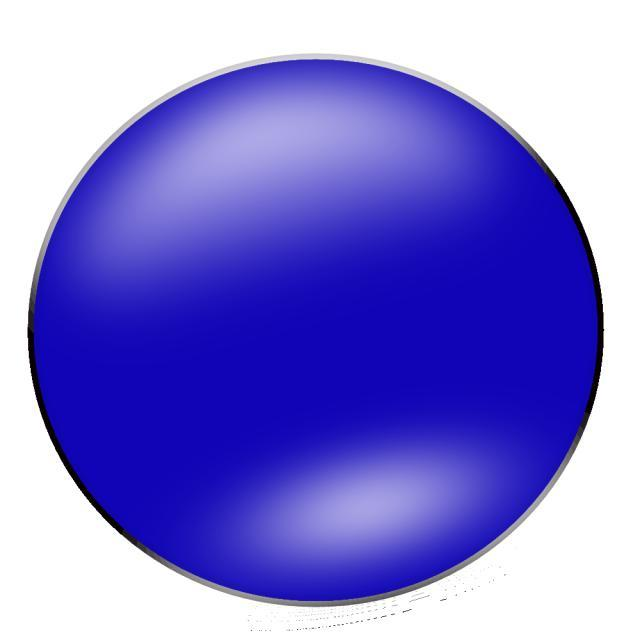Circle: (32, 59, 599, 604)
